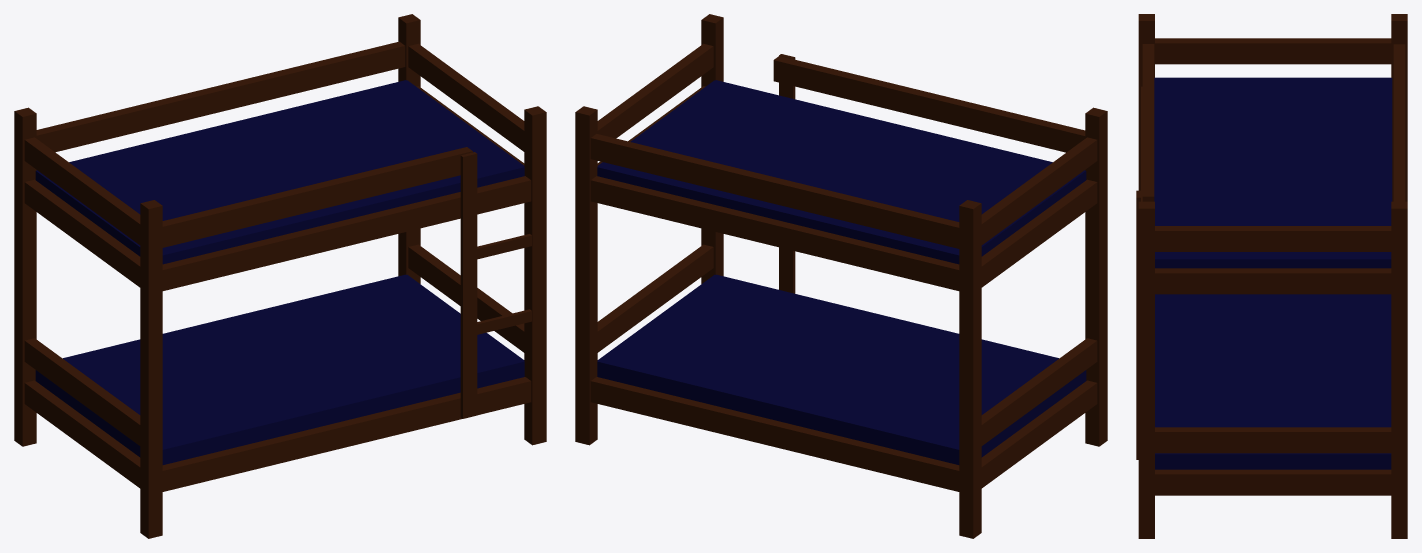
Rendered from BunkBed.fbx.
The picture shows the model from 3 angles, left to right: view 1: azimuth 30°, elevation 25°; view 2: azimuth 150°, elevation 25°; view 3: azimuth 270°, elevation 25°; orthographic projection.
Parts seen in each view (by area): view 1: BunkBed; view 2: BunkBed; view 3: BunkBed.
Part boxes in pixels (x1,y1,x2,y2): BunkBed: [14, 14, 546, 538]; BunkBed: [575, 14, 1107, 538]; BunkBed: [1136, 14, 1407, 538].
Bounding box in the file's own units: 325 × 257 × 191.
